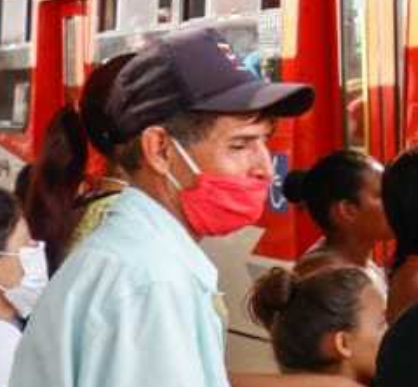mask_weared_incorrect: (141, 99, 282, 242)
